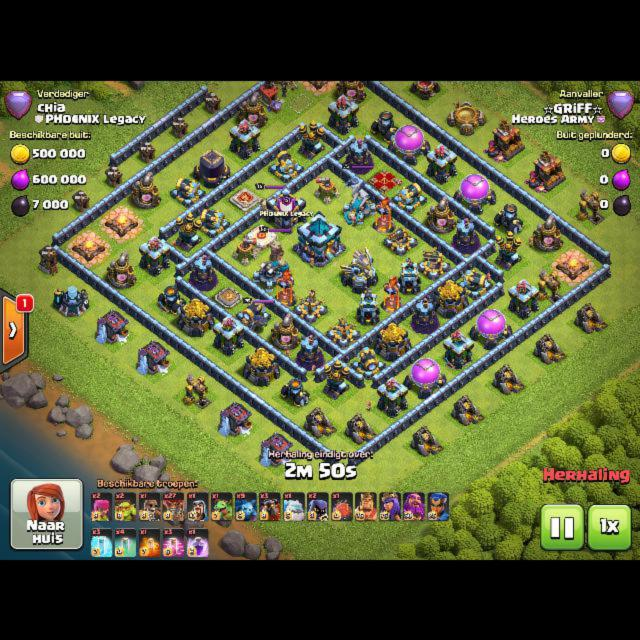AD: (322, 359, 350, 399), (297, 119, 325, 159), (495, 230, 522, 271), (175, 211, 202, 251)
AirSweeper: (314, 175, 340, 203), (233, 237, 258, 265)
BombTower: (398, 257, 421, 294), (357, 288, 379, 325)
Canon: (235, 298, 271, 331), (268, 149, 304, 182), (350, 346, 386, 378), (391, 182, 427, 213), (169, 176, 205, 206), (194, 207, 230, 237), (456, 268, 492, 298)
ClanCastle: (266, 186, 306, 232)
Eagle: (340, 245, 378, 293)
Inferno: (274, 270, 296, 307), (381, 276, 403, 312), (372, 197, 394, 232)
KingPad: (230, 187, 261, 210)
Mortar: (370, 110, 401, 143), (493, 202, 524, 234), (280, 377, 311, 407), (157, 284, 187, 314)
QueenPad: (368, 168, 402, 193)
RcPad: (215, 286, 241, 306)
Scattershot: (253, 259, 290, 292), (343, 189, 376, 223)
TH13: (297, 210, 342, 266)
WardenPad: (247, 223, 276, 245)
WizzTower: (411, 297, 438, 333), (452, 217, 479, 253), (345, 137, 371, 174), (296, 334, 322, 370), (190, 254, 216, 290)
Xbow: (292, 288, 328, 323), (415, 246, 451, 280), (325, 316, 361, 348), (382, 225, 418, 256)
